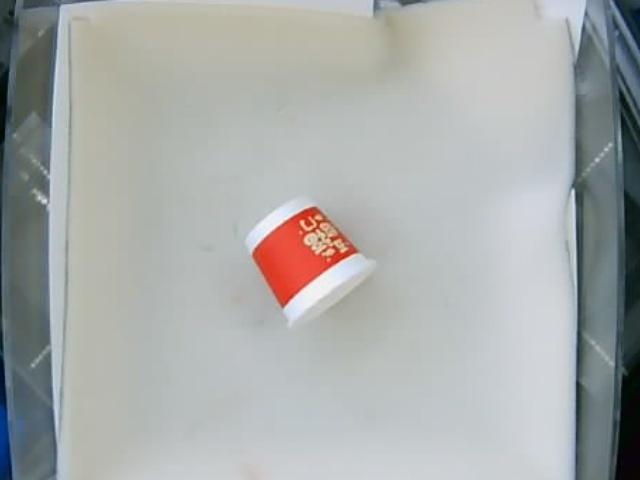Cup: (242, 199, 378, 326)
